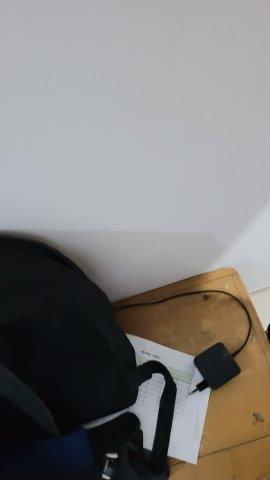kertas: (105, 331, 215, 465)
